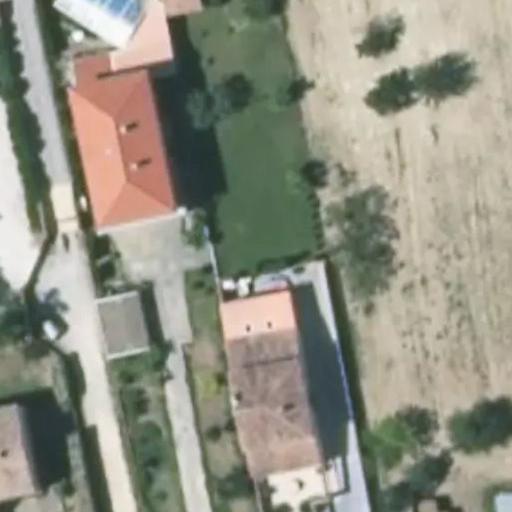pool: (232, 214, 279, 269)
